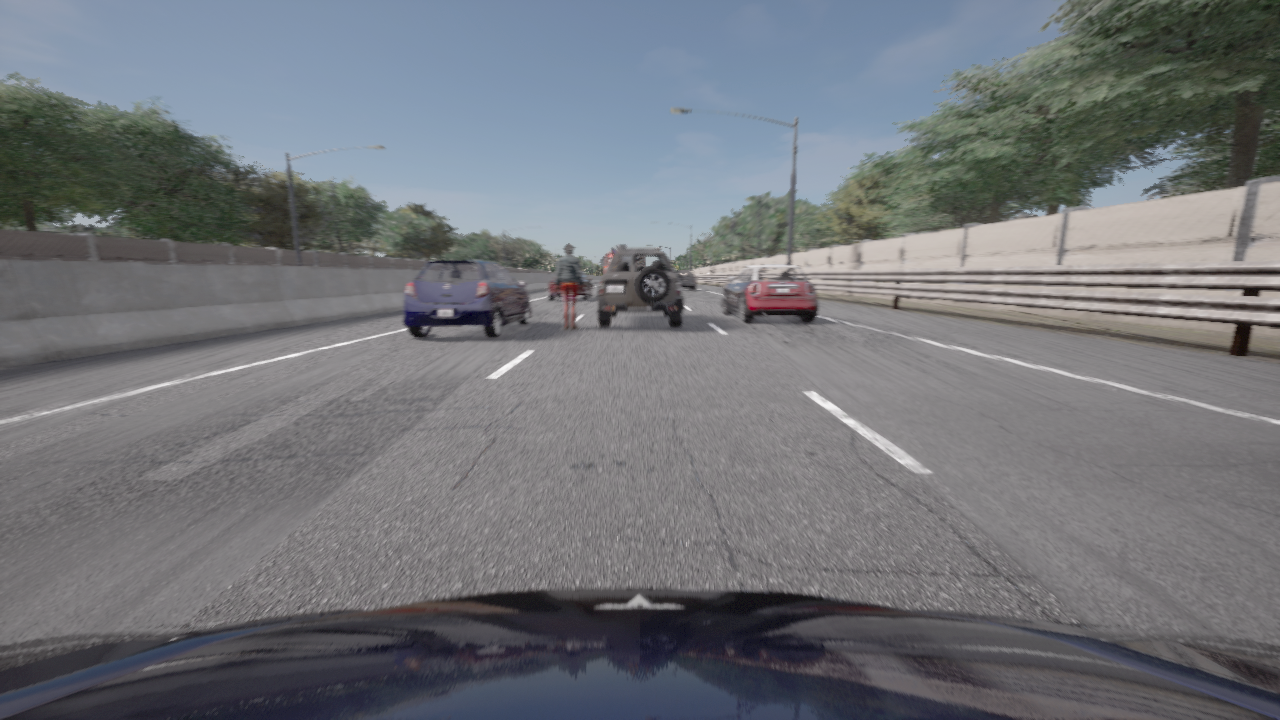cyclist: (0, 588, 1279, 719), (403, 260, 530, 337), (597, 248, 682, 326), (722, 265, 817, 322), (545, 271, 593, 300), (601, 245, 626, 274), (676, 270, 695, 290)
pedestrian: (555, 244, 582, 329)
